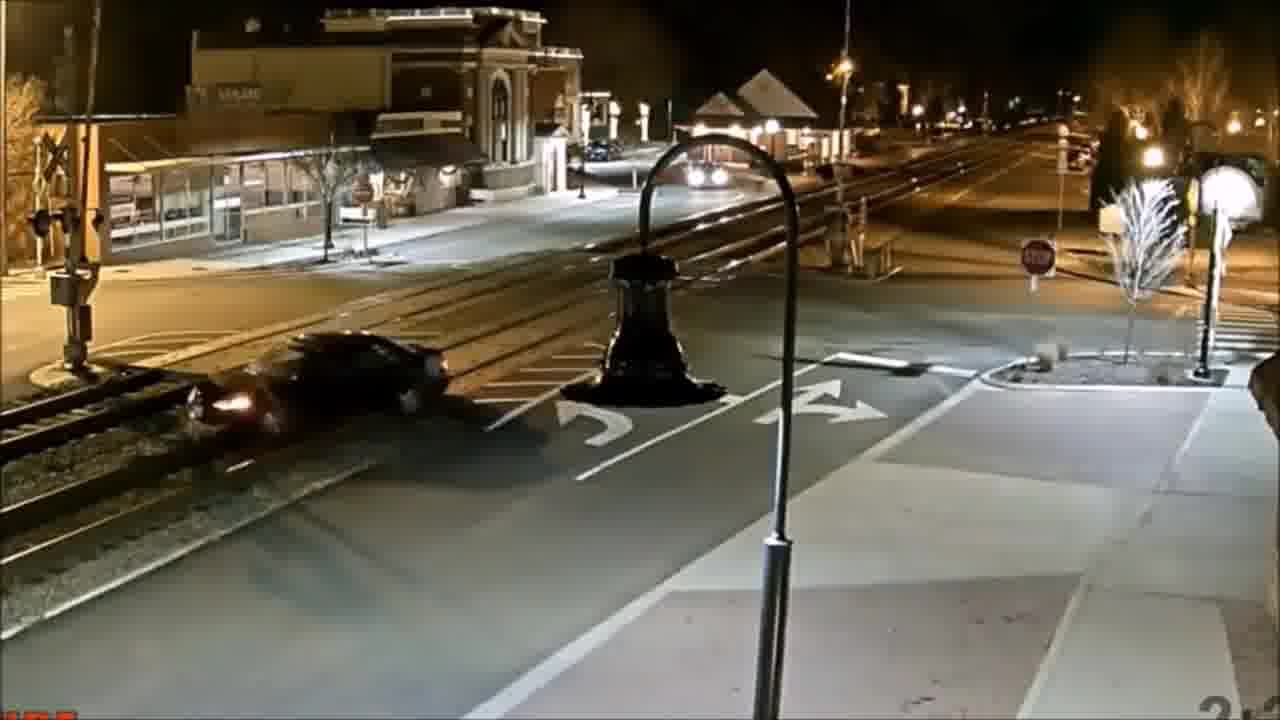crossing railway track: (186, 329, 453, 450)
